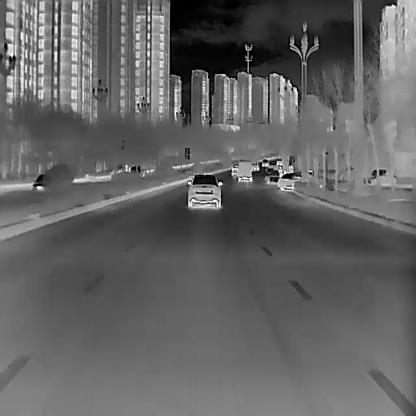car: (185, 170, 222, 209), (277, 169, 324, 193), (236, 158, 252, 181), (231, 162, 239, 176), (251, 160, 259, 172), (262, 158, 268, 166)
